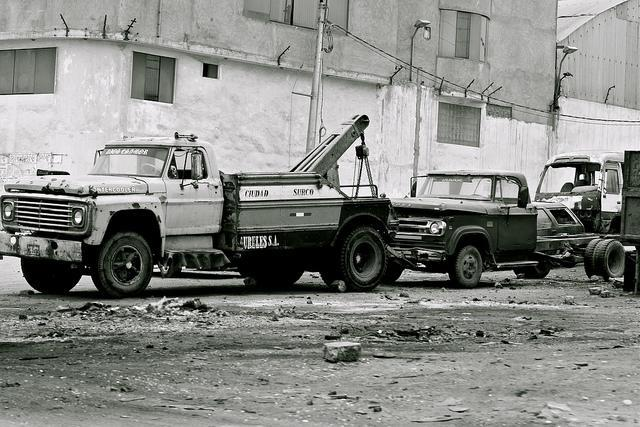car: (2, 111, 394, 294), (536, 154, 625, 234)
truck: (4, 110, 392, 290), (378, 170, 626, 290), (533, 147, 640, 246)
